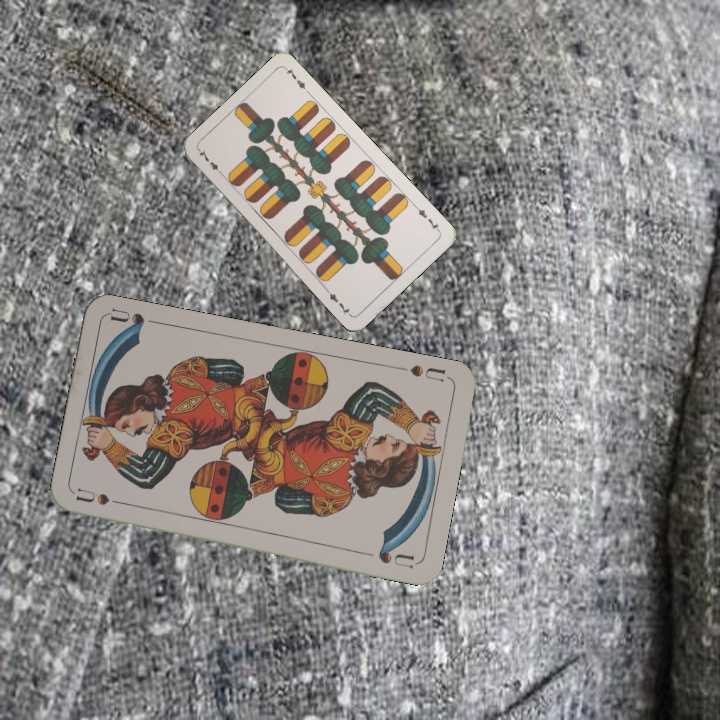E7: (411, 201, 443, 234), (195, 146, 226, 179)
SU: (73, 485, 132, 509), (406, 361, 449, 384)
